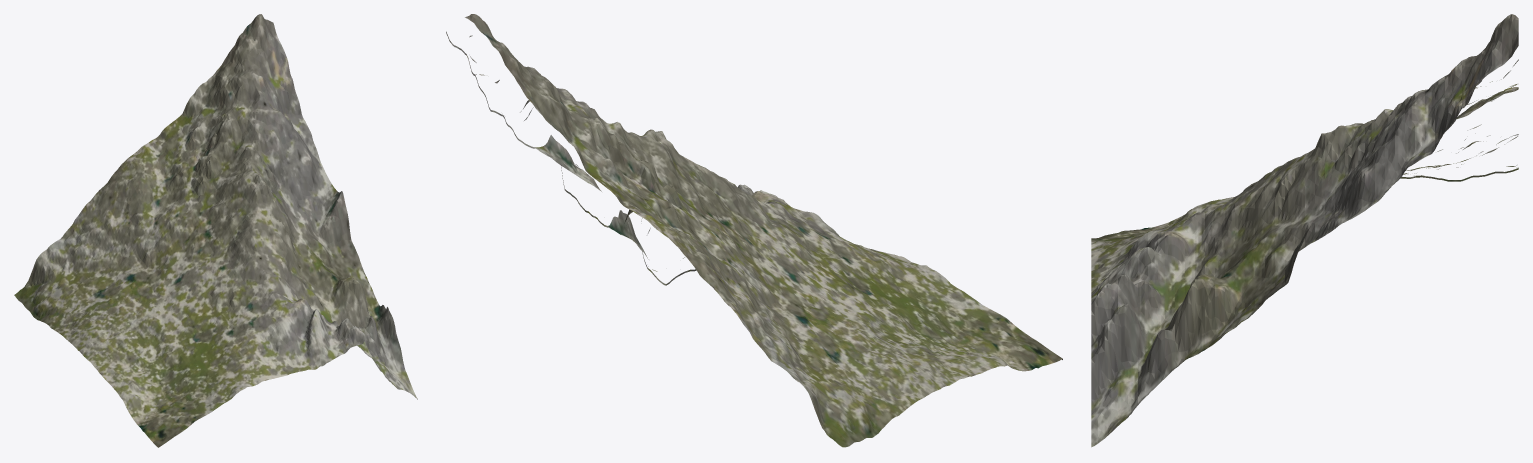
The picture shows the model from 3 angles, left to right: view 1: azimuth 30°, elevation 25°; view 2: azimuth 150°, elevation 25°; view 3: azimuth 270°, elevation 25°; orthographic projection. The views are drawn at different scales.
Size of the model in its own units: 250 by 263 by 241.
1 material, 1 textured.
